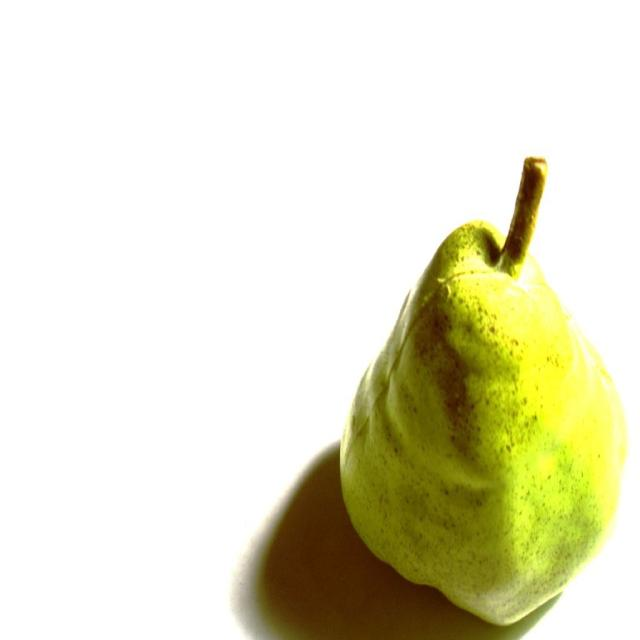pear: (340, 220, 624, 626)
